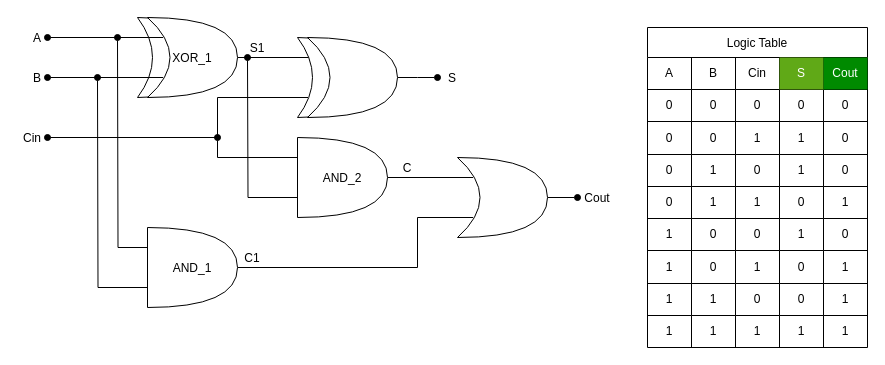
This 885x365 diagram has some shape labels left out. The centre of each missing label's shape, as x and y in pixels:
OR: (502,197)
XOR_2: (352,77)
